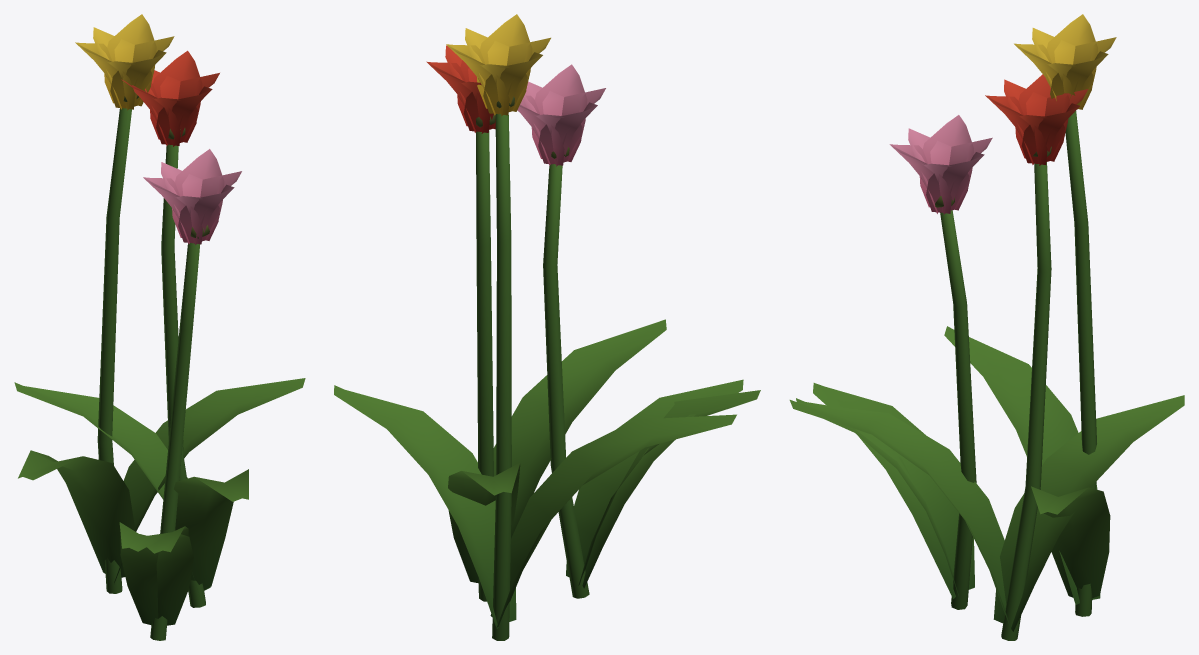
The model's file is SM_Flower_Tulip.fbx.
3 views of the same model, side by side, from view 1: azimuth 30°, elevation 25°; view 2: azimuth 150°, elevation 25°; view 3: azimuth 270°, elevation 25° (orthographic). The views are drawn at different scales.
Visible parts, largest first — view 1: SM_Flower_Tulip; view 2: SM_Flower_Tulip; view 3: SM_Flower_Tulip.
Part boxes in pixels (box(x1,y1,x2,y2)): SM_Flower_Tulip: box(14, 14, 305, 640); SM_Flower_Tulip: box(334, 14, 760, 640); SM_Flower_Tulip: box(789, 14, 1184, 640).
Size of the model in its own units: 0.3019 by 0.4869 by 0.3004.
